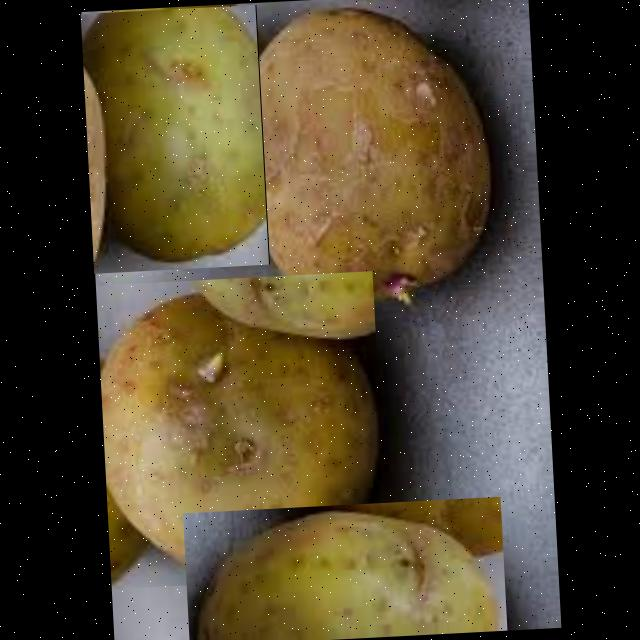Defected potato: (94, 272, 388, 590), (80, 5, 269, 274), (181, 497, 506, 640)
Sprouted potato: (229, 0, 502, 324)
